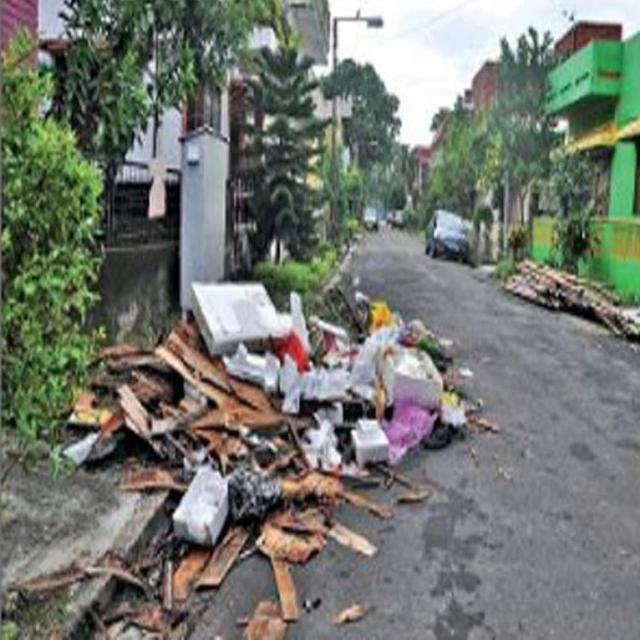garbage: (0, 224, 506, 640)
